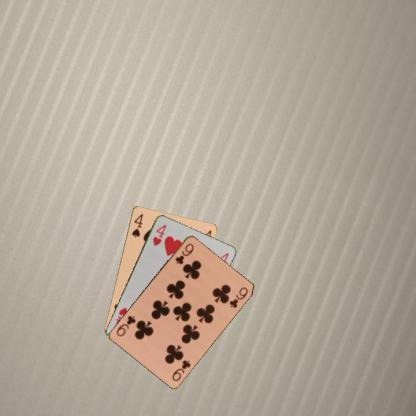4h: (150, 222, 168, 247)
4s: (129, 211, 144, 239)
9c: (169, 357, 192, 383), (173, 240, 195, 265)
